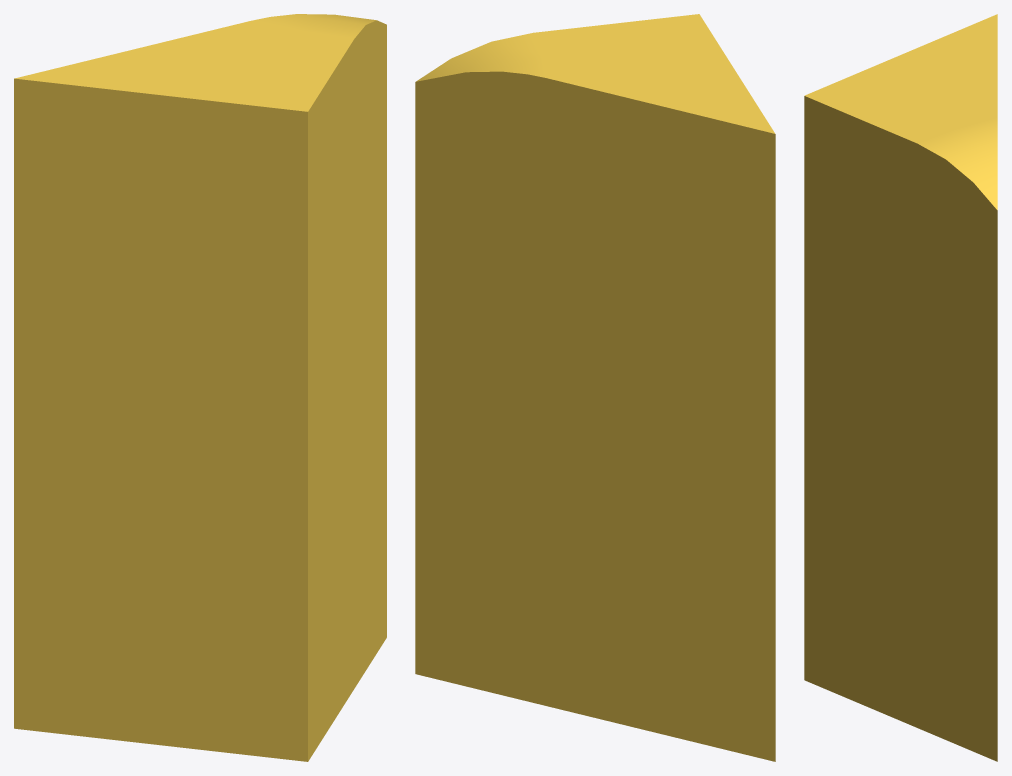
File: Corner_Concave_Center.obj
3 views of the same model, side by side, from view 1: azimuth 30°, elevation 25°; view 2: azimuth 150°, elevation 25°; view 3: azimuth 270°, elevation 25° (orthographic). The views are drawn at different scales.
Visible parts, largest first — view 1: Corner_Concave_Center; view 2: Corner_Concave_Center; view 3: Corner_Concave_Center.
Boxes of the visible parts, x1=… form: Corner_Concave_Center: x1=14, y1=14, x2=386, y2=761; Corner_Concave_Center: x1=415, y1=14, x2=775, y2=761; Corner_Concave_Center: x1=804, y1=14, x2=997, y2=761.
Bounding box in the file's own units: 0.3 × 0.5 × 0.15.
